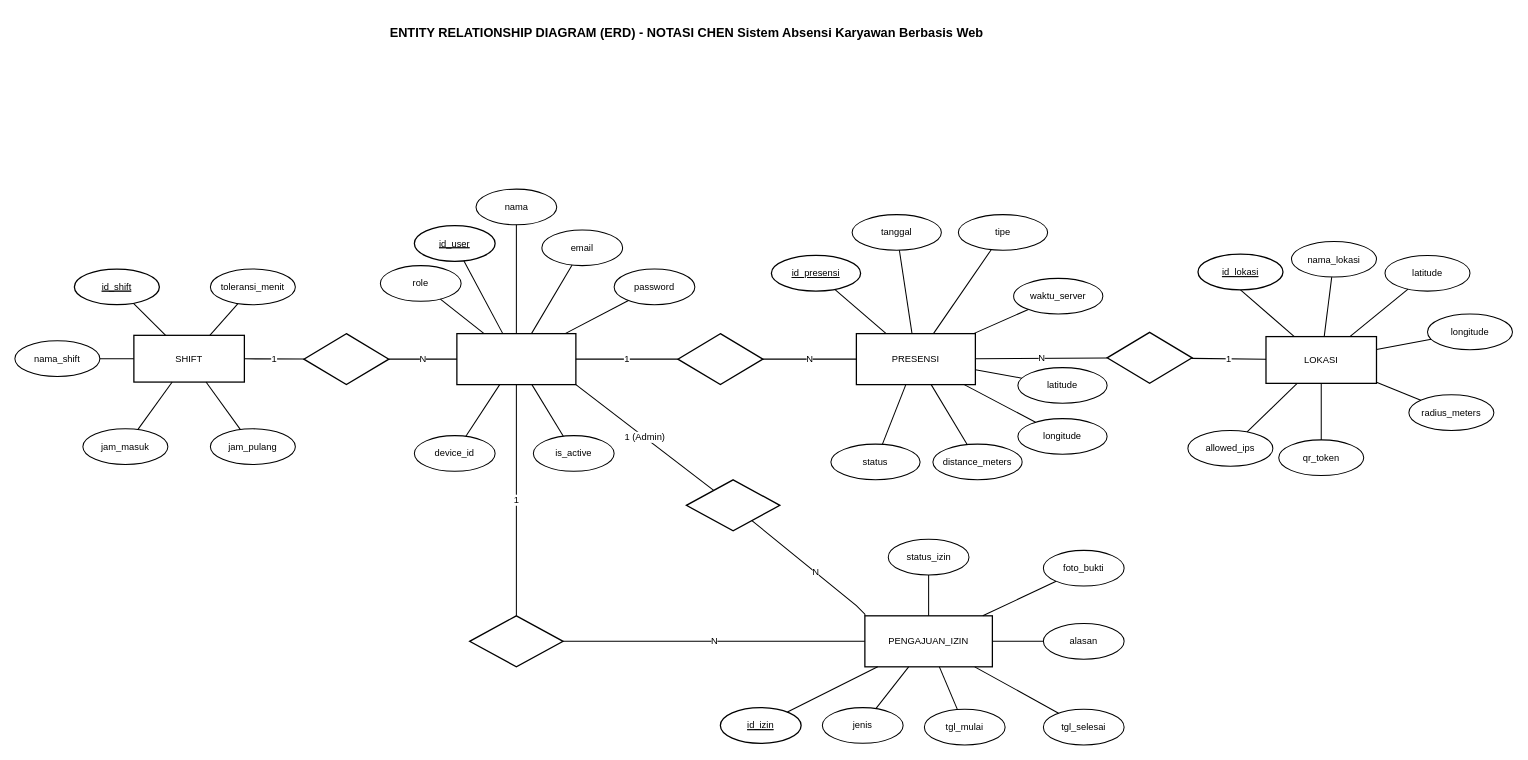
Image size: 1528x760. Some labels were removed from this diagram. The shapes that lost their labels are listed below. From the top down, each one's box as (x1, y1, x2, y2) in pixels, then its label:
(303, 333, 389, 385): mengikuti
(456, 333, 576, 385): USER
(677, 333, 763, 385): melakukan
(1106, 331, 1192, 384): di_lokasi
(685, 479, 780, 531): memvalidasi
(469, 615, 563, 667): mengajukan
